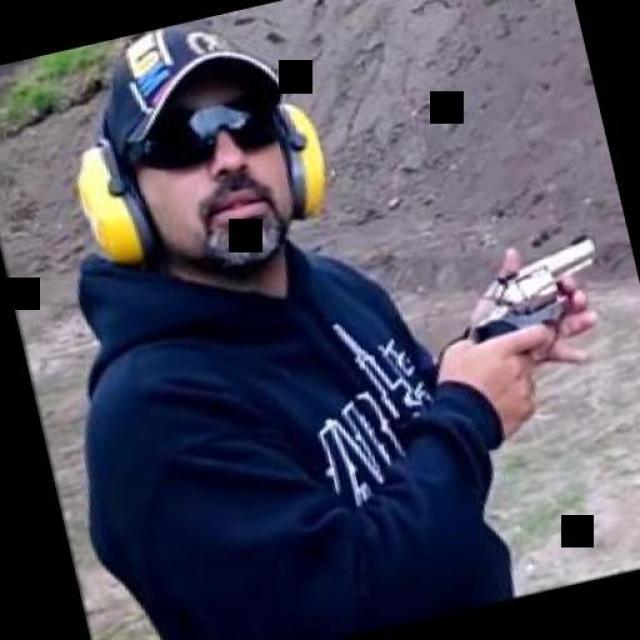gun: (442, 229, 626, 406)
